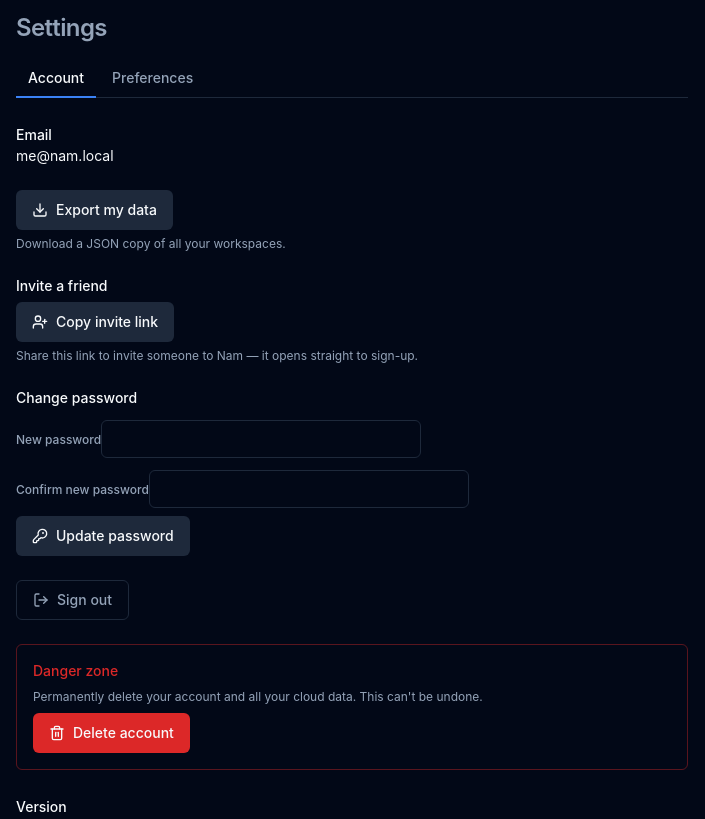
AccountPage › blocks a password change on mismatch
Expected: the text "me@nam.local" is shown, [16,147,114,164]
Type "longenough" into the password field labelled "New password" at x=261, y=439, box [101,420,421,458]
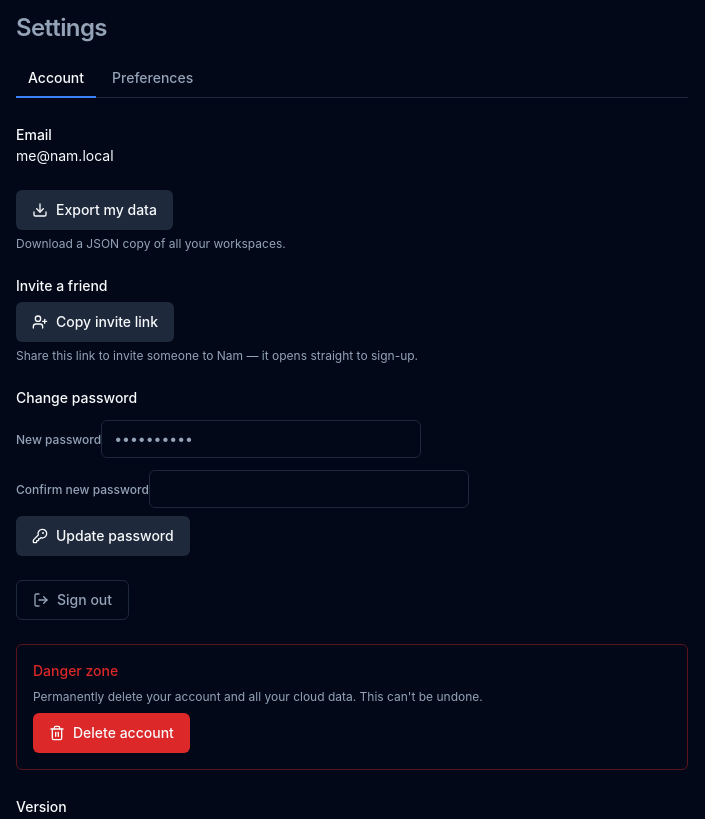
Type "different1" into the password field labelled "Confirm new password" at x=309, y=489, box [149,470,469,508]
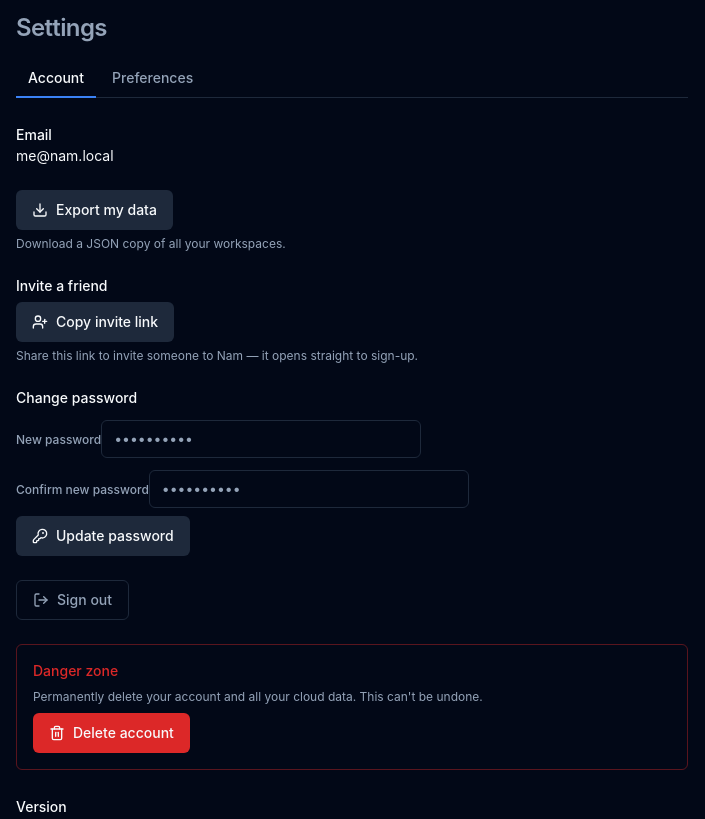
Click the button "Update password" at x=103, y=536, box [16,516,190,556]
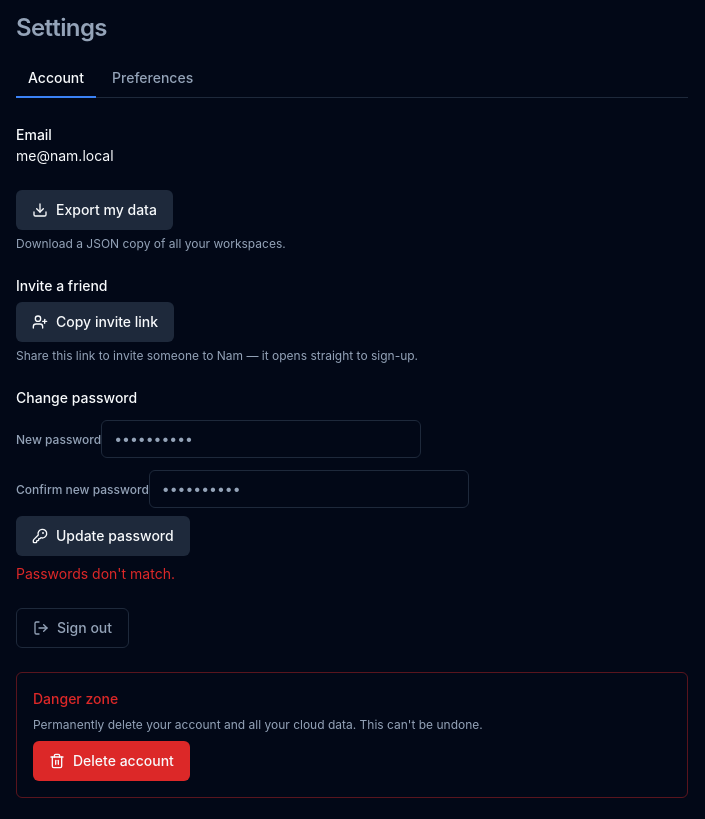
Expected: the message shows "don't match", [16,565,175,582]
